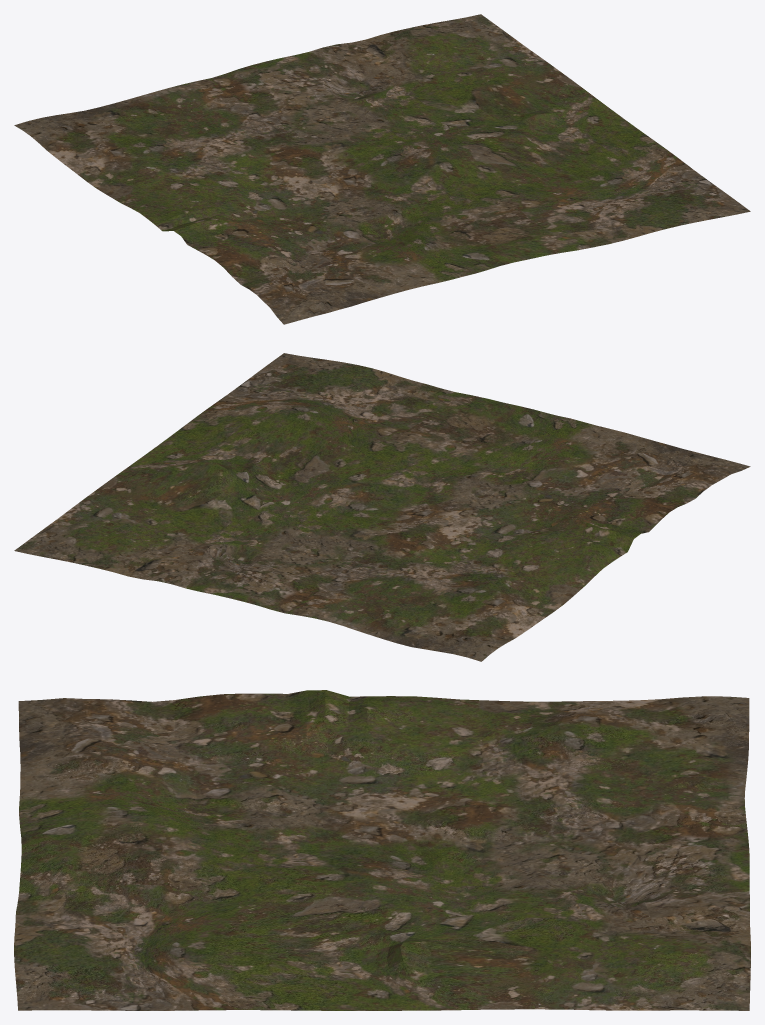
Rendered from terrain.glb.
3 views of the same model, one above another, from view 1: azimuth 30°, elevation 25°; view 2: azimuth 150°, elevation 25°; view 3: azimuth 270°, elevation 25° (orthographic). The views are drawn at different scales.
Visible parts, largest first — view 1: Plane; view 2: Plane; view 3: Plane.
Boxes of the visible parts, x1=… form: Plane: x1=14, y1=14, x2=750, y2=324; Plane: x1=14, y1=353, x2=750, y2=661; Plane: x1=14, y1=690, x2=750, y2=1010.
Bounding box in the file's own units: 60.6 × 2.12 × 61.06.
1 material, 1 textured.
